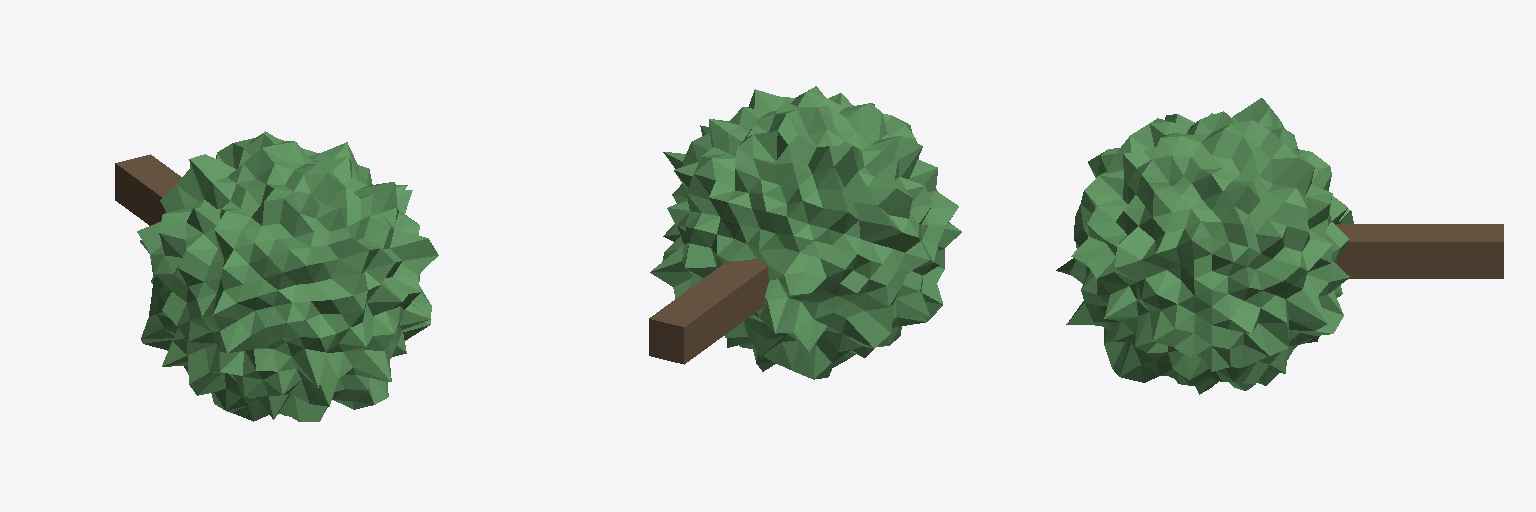
File: tinker.obj
The picture shows the model from 3 angles: view 1: azimuth 30°, elevation 25°; view 2: azimuth 150°, elevation 25°; view 3: azimuth 270°, elevation 25°; orthographic projection.
Parts seen in each view (by area): view 1: obj_0; view 2: obj_0; view 3: obj_0.
Part boxes in pixels (x1,y1,x2,y2): obj_0: (115,131,438,421); obj_0: (649,86,961,379); obj_0: (1056,98,1503,394).
Bounding box in the file's own units: 28.88 × 28.79 × 43.66.